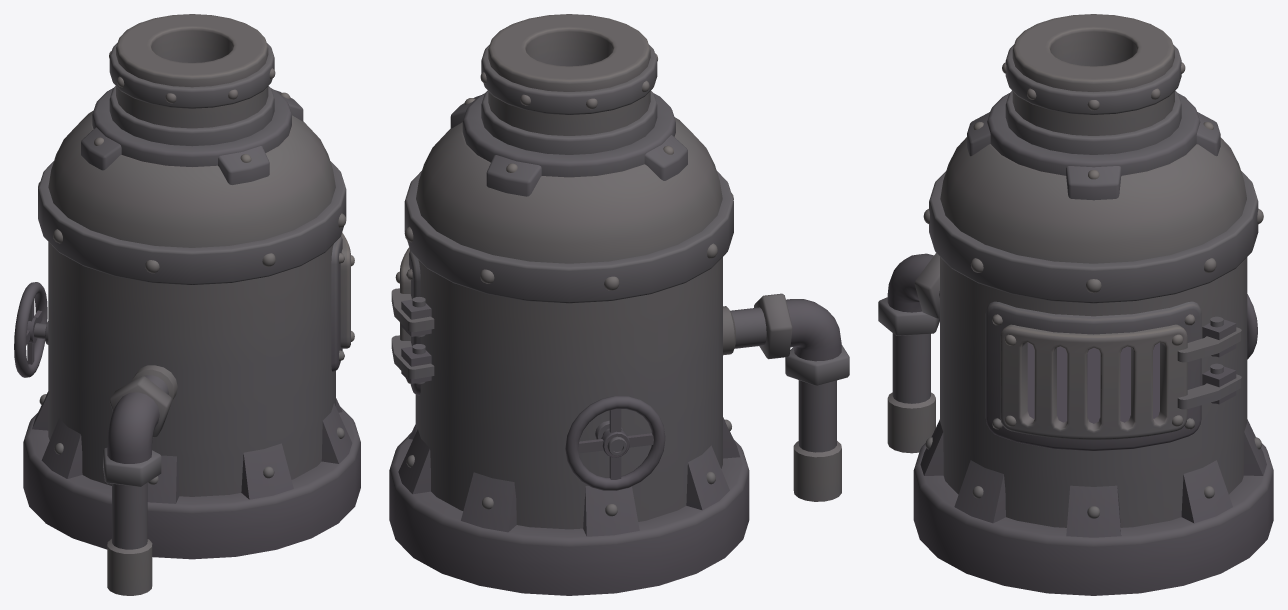
File: gizmo_furnace1d.fbx
The picture shows the model from 3 angles, left to right: view 1: azimuth 30°, elevation 25°; view 2: azimuth 150°, elevation 25°; view 3: azimuth 270°, elevation 25°; orthographic projection. The views are drawn at different scales.
Visible parts, largest first — view 1: furnace_lvl1; view 2: furnace_lvl1; view 3: furnace_lvl1.
Part boxes in pixels (x1=…): furnace_lvl1: x1=14, y1=14, x2=360, y2=595; furnace_lvl1: x1=389, y1=14, x2=849, y2=595; furnace_lvl1: x1=878, y1=14, x2=1273, y2=595.
Bounding box in the file's own units: 144 × 190 × 144.
